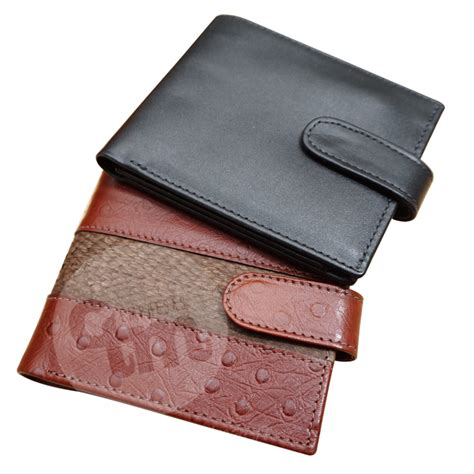cuero: (19, 12, 445, 455)
